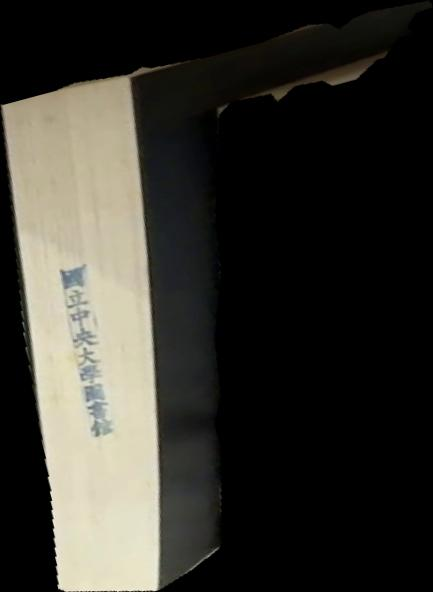backward: (1, 1, 433, 592)
